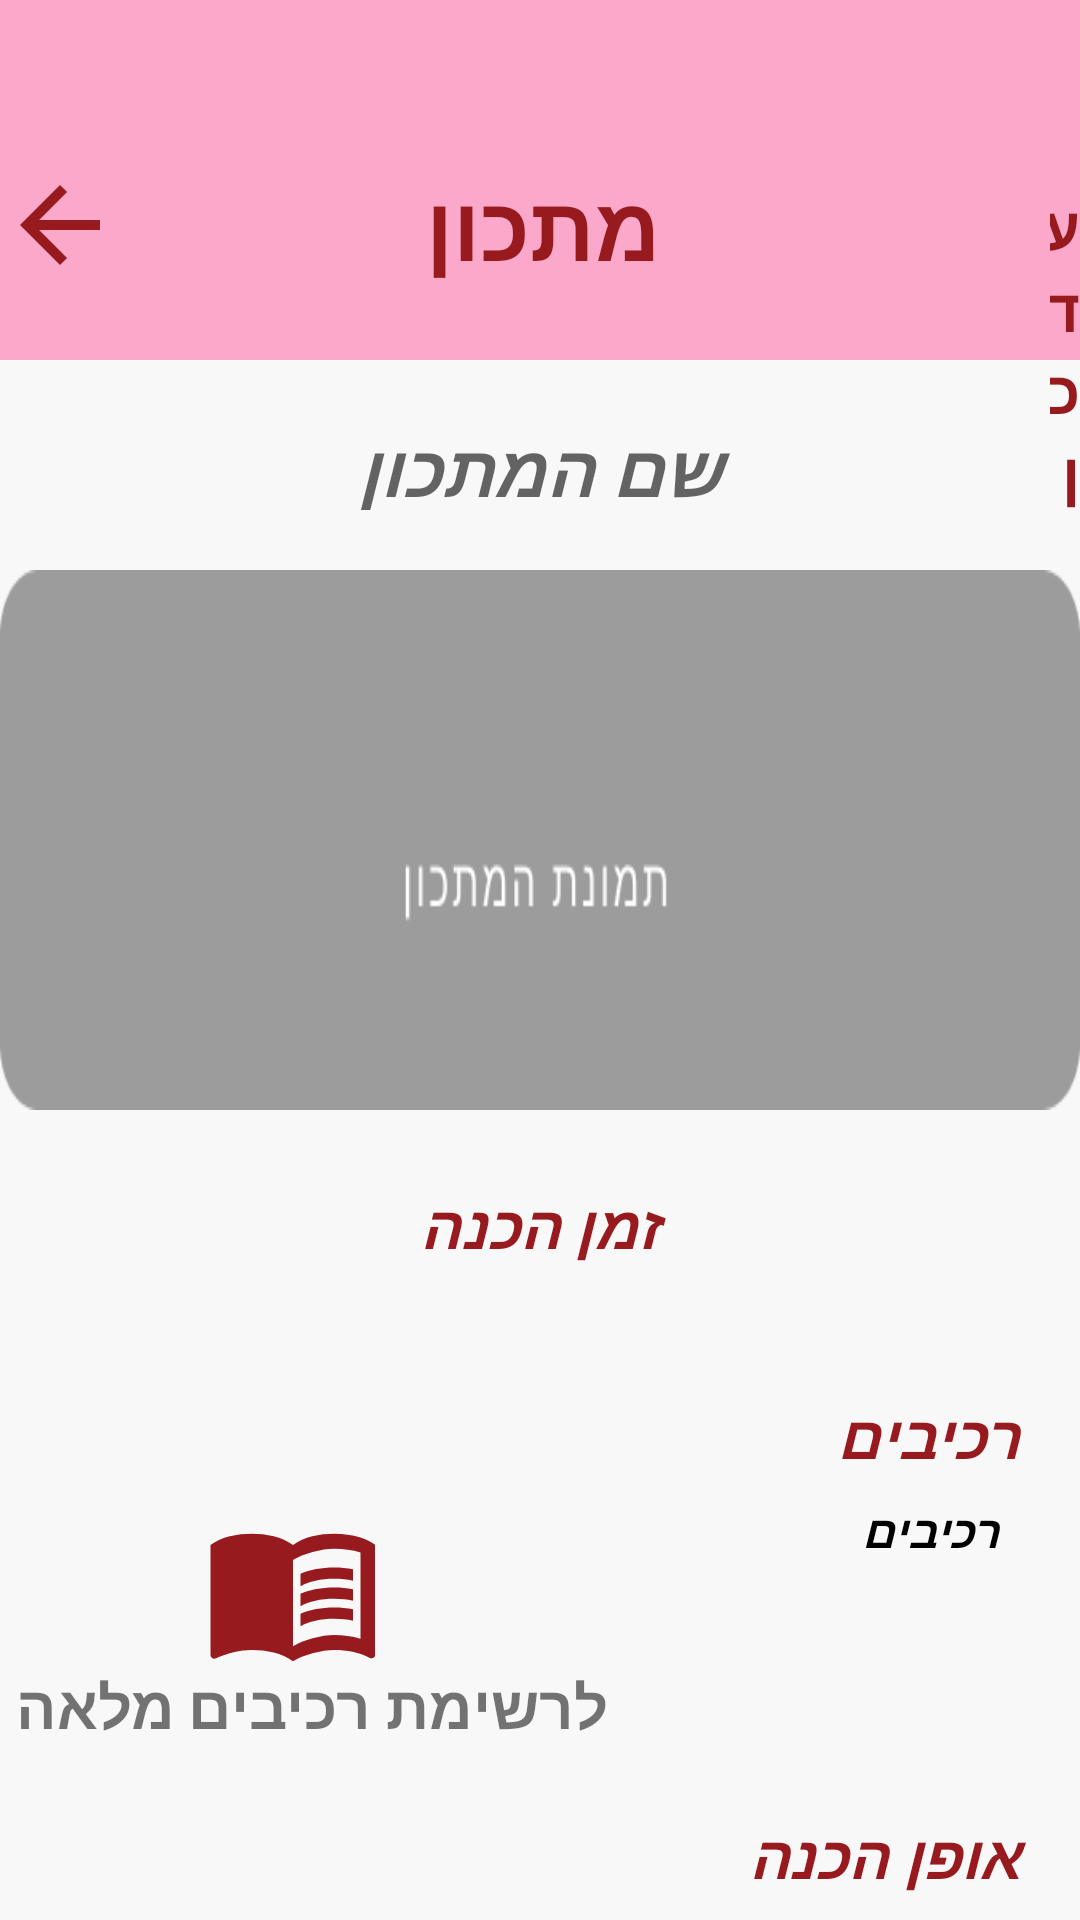

Named icons in this screenshot (1080px x 1920px) and their bounding boxes, Rect(x1, y1, x2, y2):
book: Rect(210, 1533, 375, 1661)
